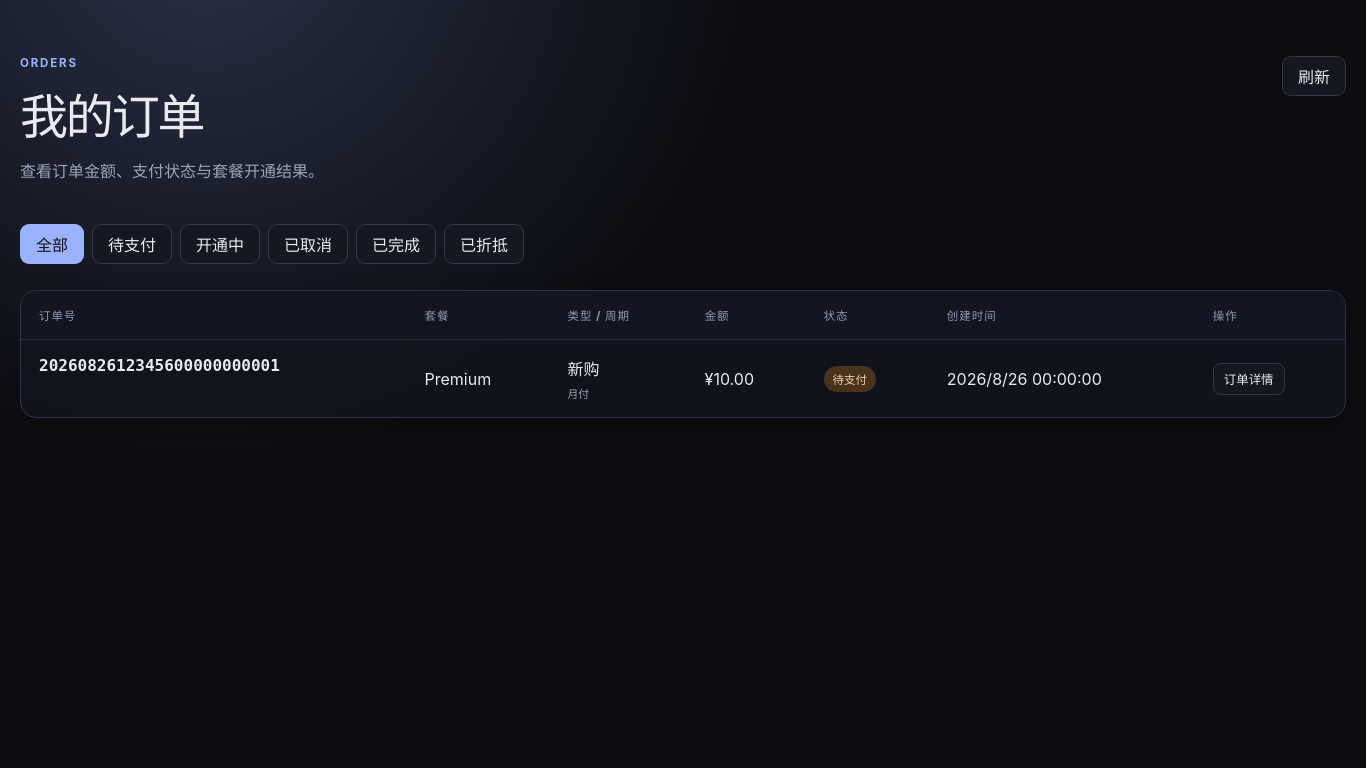
Test: UserOrdersPage › cancels a paid pending order and removes every pending-only action
The width and height of the screenshot is (1366, 768).
Click the button "订单详情": [1249, 378] box [1213,362,1285,394]
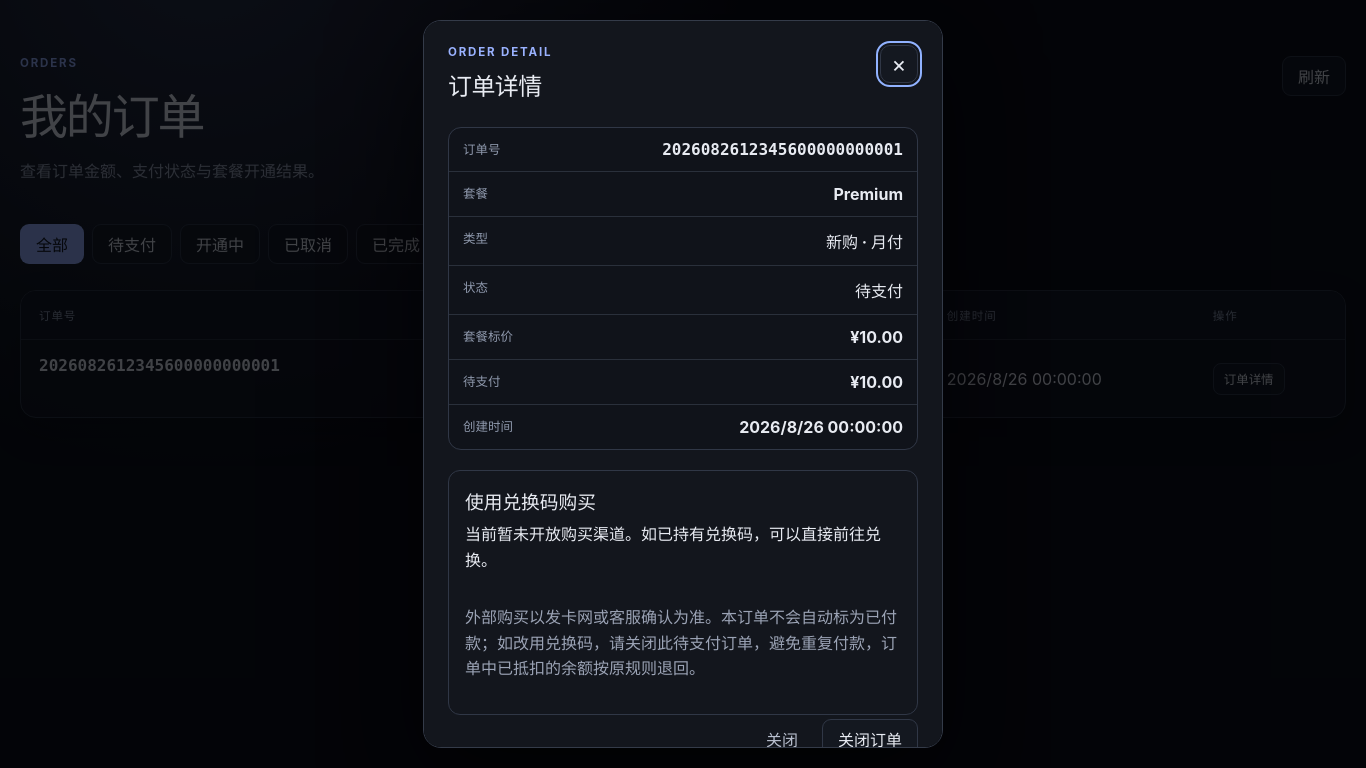
Expected: the text "当前暂未开放购买渠道。如已持有兑换码，可以直接前往兑换。" is shown, [465,522,901,573]
Click the button "关闭订单": [870, 739] box [822,719,918,759]
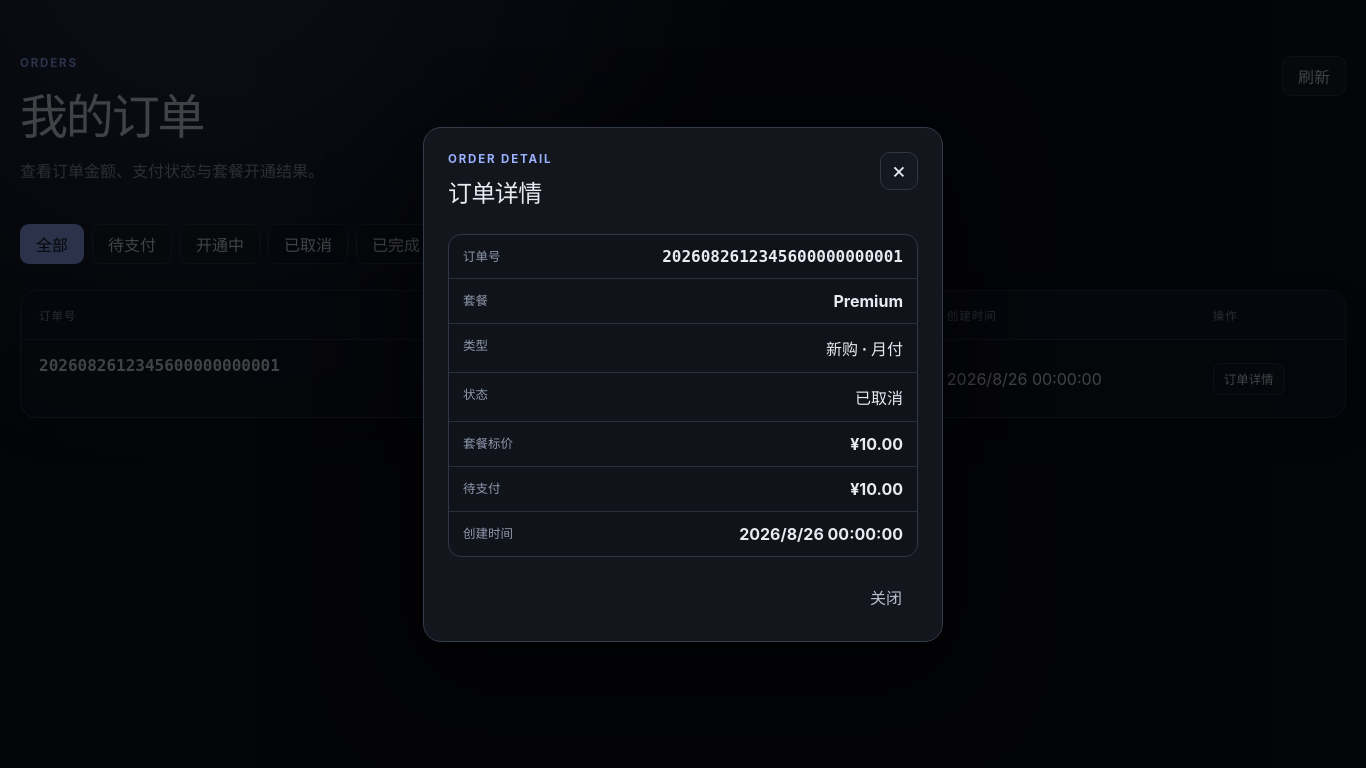
Expected: the text "已取消" is shown, [855,388,903,408]
Expected: the button "关闭订单" is gone
